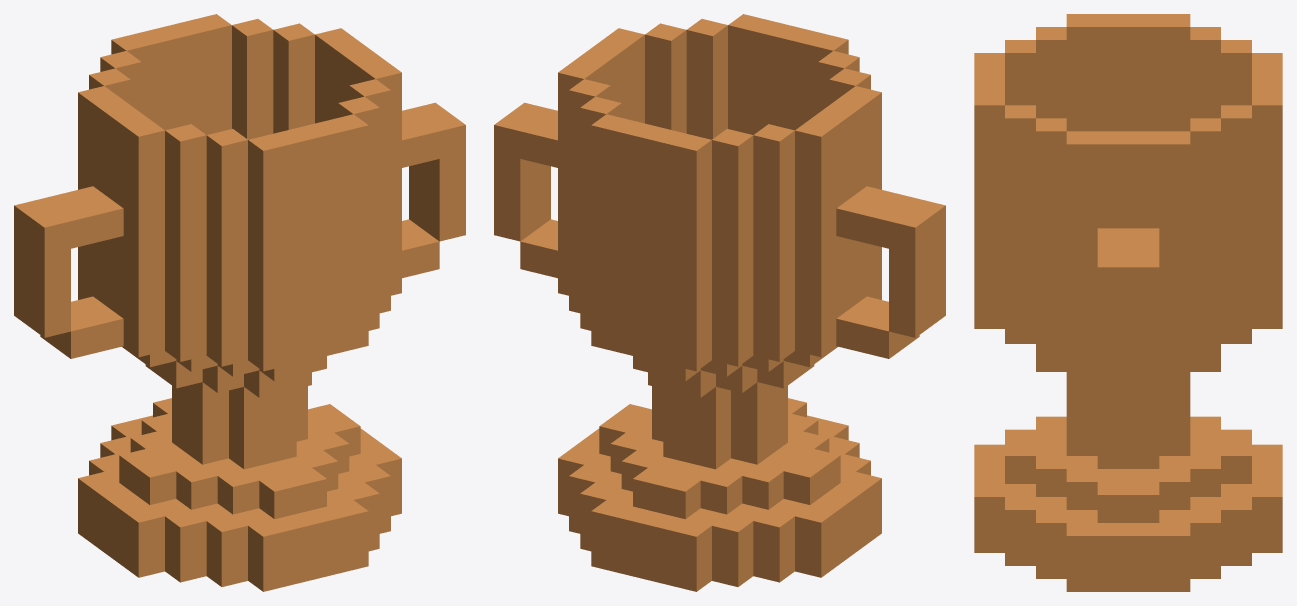
Rendered from bronze.obj.
3 renders of one model, left to right at view 1: azimuth 30°, elevation 25°; view 2: azimuth 150°, elevation 25°; view 3: azimuth 270°, elevation 25°, orthographic.
Bounding box in the file's own units: 1.6 × 1.6 × 1.
1 material, 1 textured.
